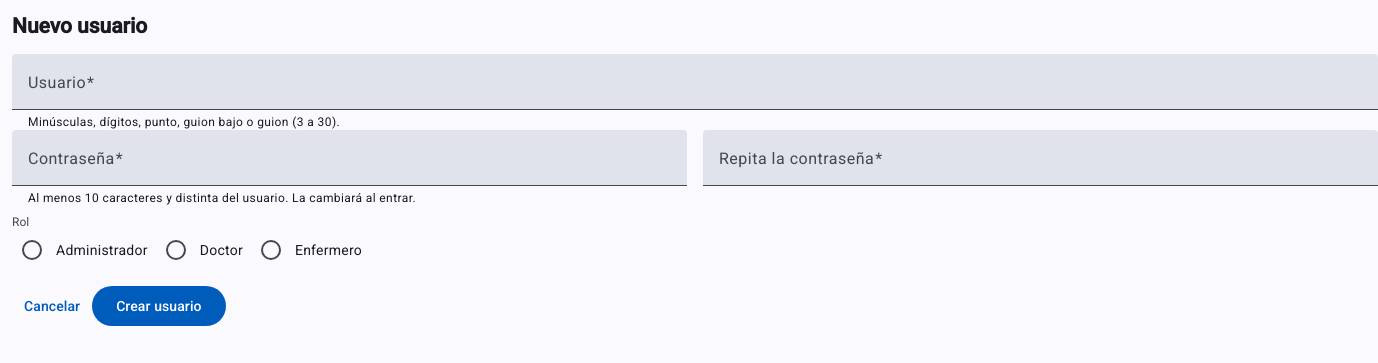
UsuarioDialogoComponent › la contraseña no puede ser el username
Type "ana.torres.g" into the field labelled "Usuario" at (695, 90), box [28, 78, 1362, 102]
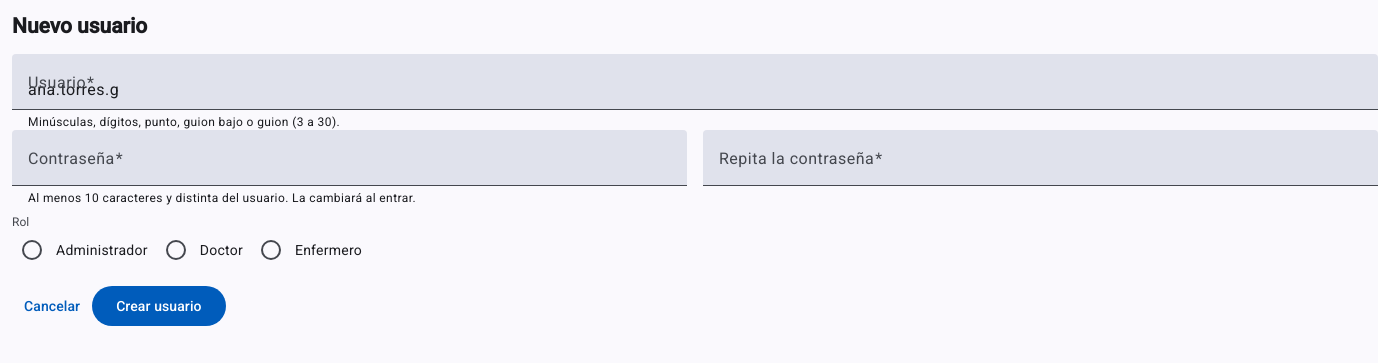
Type "ANA.TORRES.G" into the password field labelled "Contraseña" at (350, 166), box [28, 154, 671, 178]
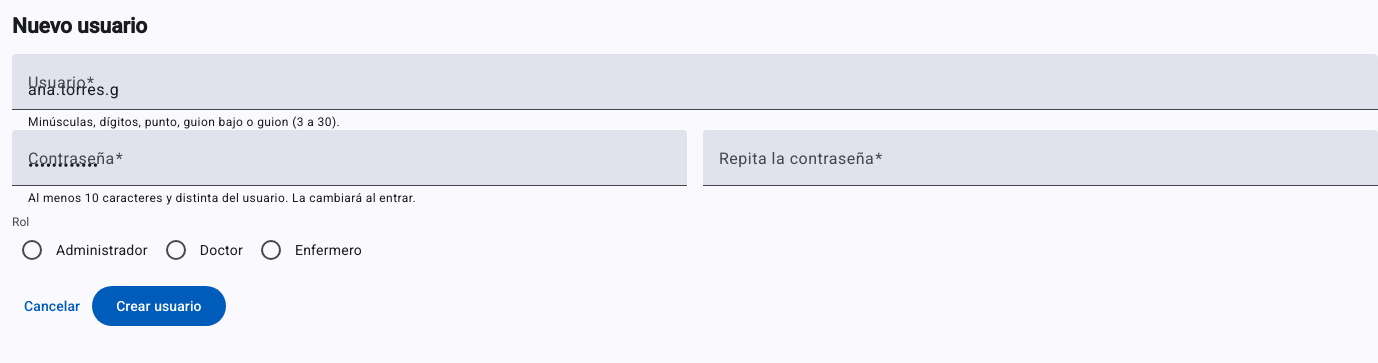
Type "ANA.TORRES.G" into the password field labelled "Repita la contraseña" at (1040, 166), box [719, 154, 1362, 178]
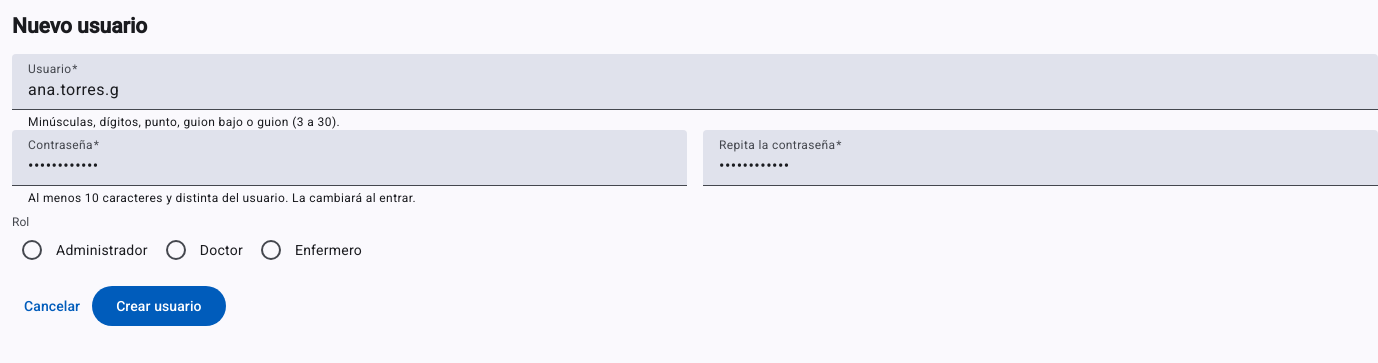
Click the submit button at (159, 306), box [92, 286, 226, 326]
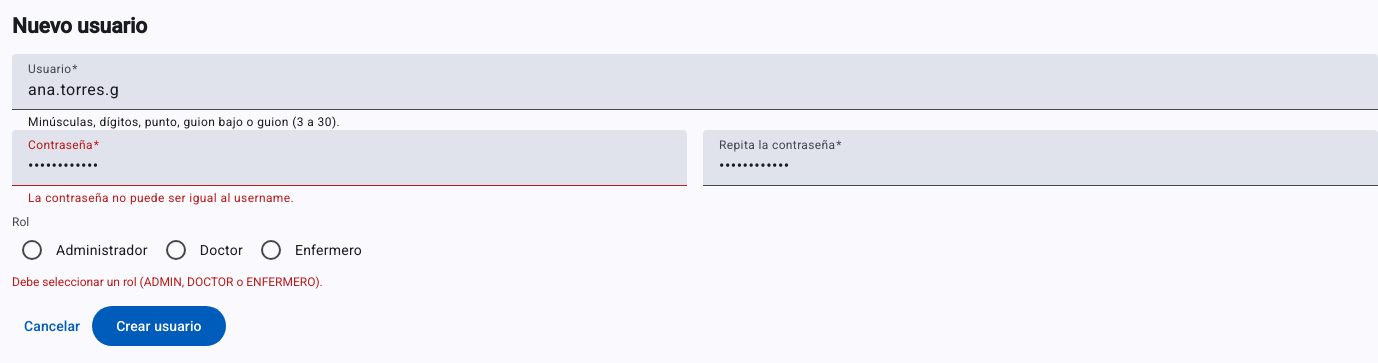
Expected: the text "La contraseña no puede ser igual al username." is shown, [28, 191, 294, 205]
